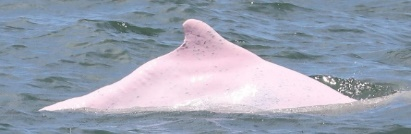fin: (32, 12, 379, 125)
